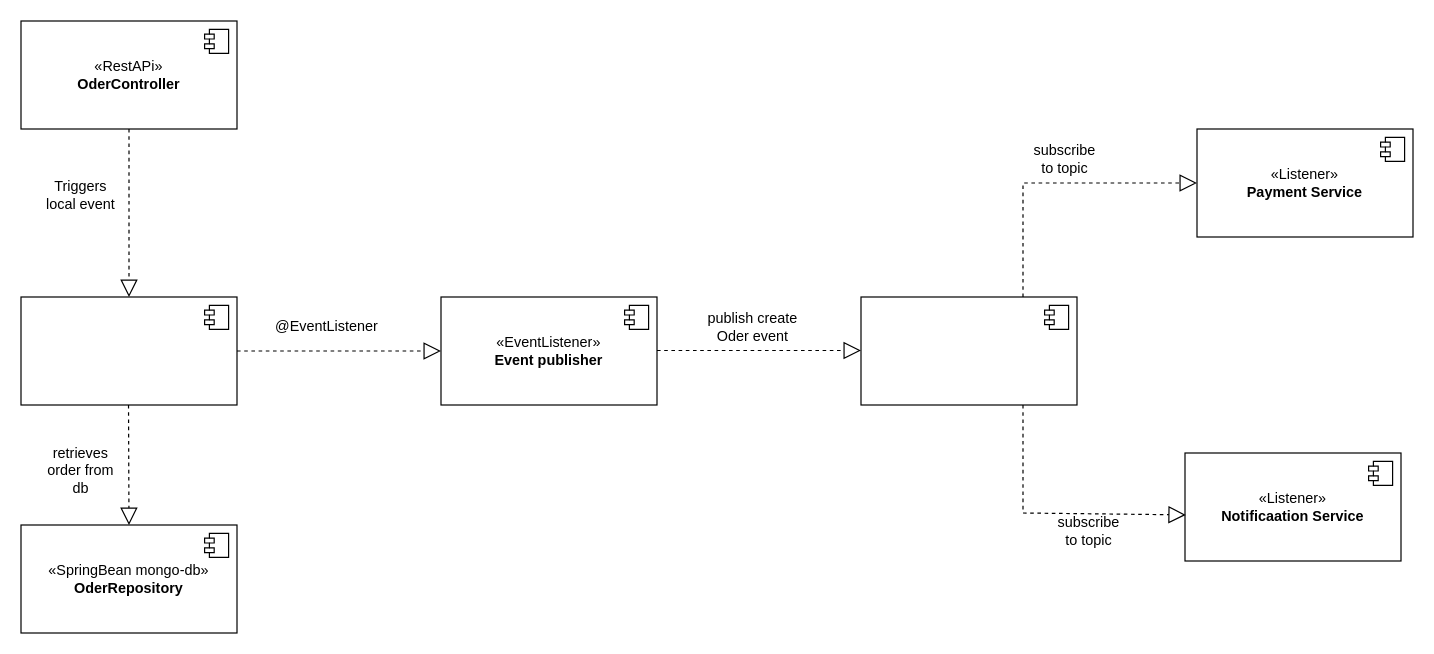
The diagram is 1434 pixels wide and 654 high, and some of its shapes have lost their labels. The centre of each missing label's shape, as x and y in pixels:
«Event» OderCreated: (x=968, y=350)
«SpringBean» OderService: (x=128, y=350)
